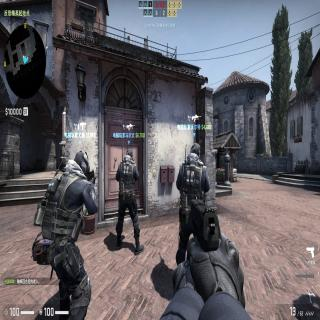CT-Body: (35, 148, 97, 270), (116, 148, 146, 253), (175, 140, 211, 201)
CT-Head: (74, 148, 89, 174), (190, 142, 200, 158), (126, 149, 132, 161)
